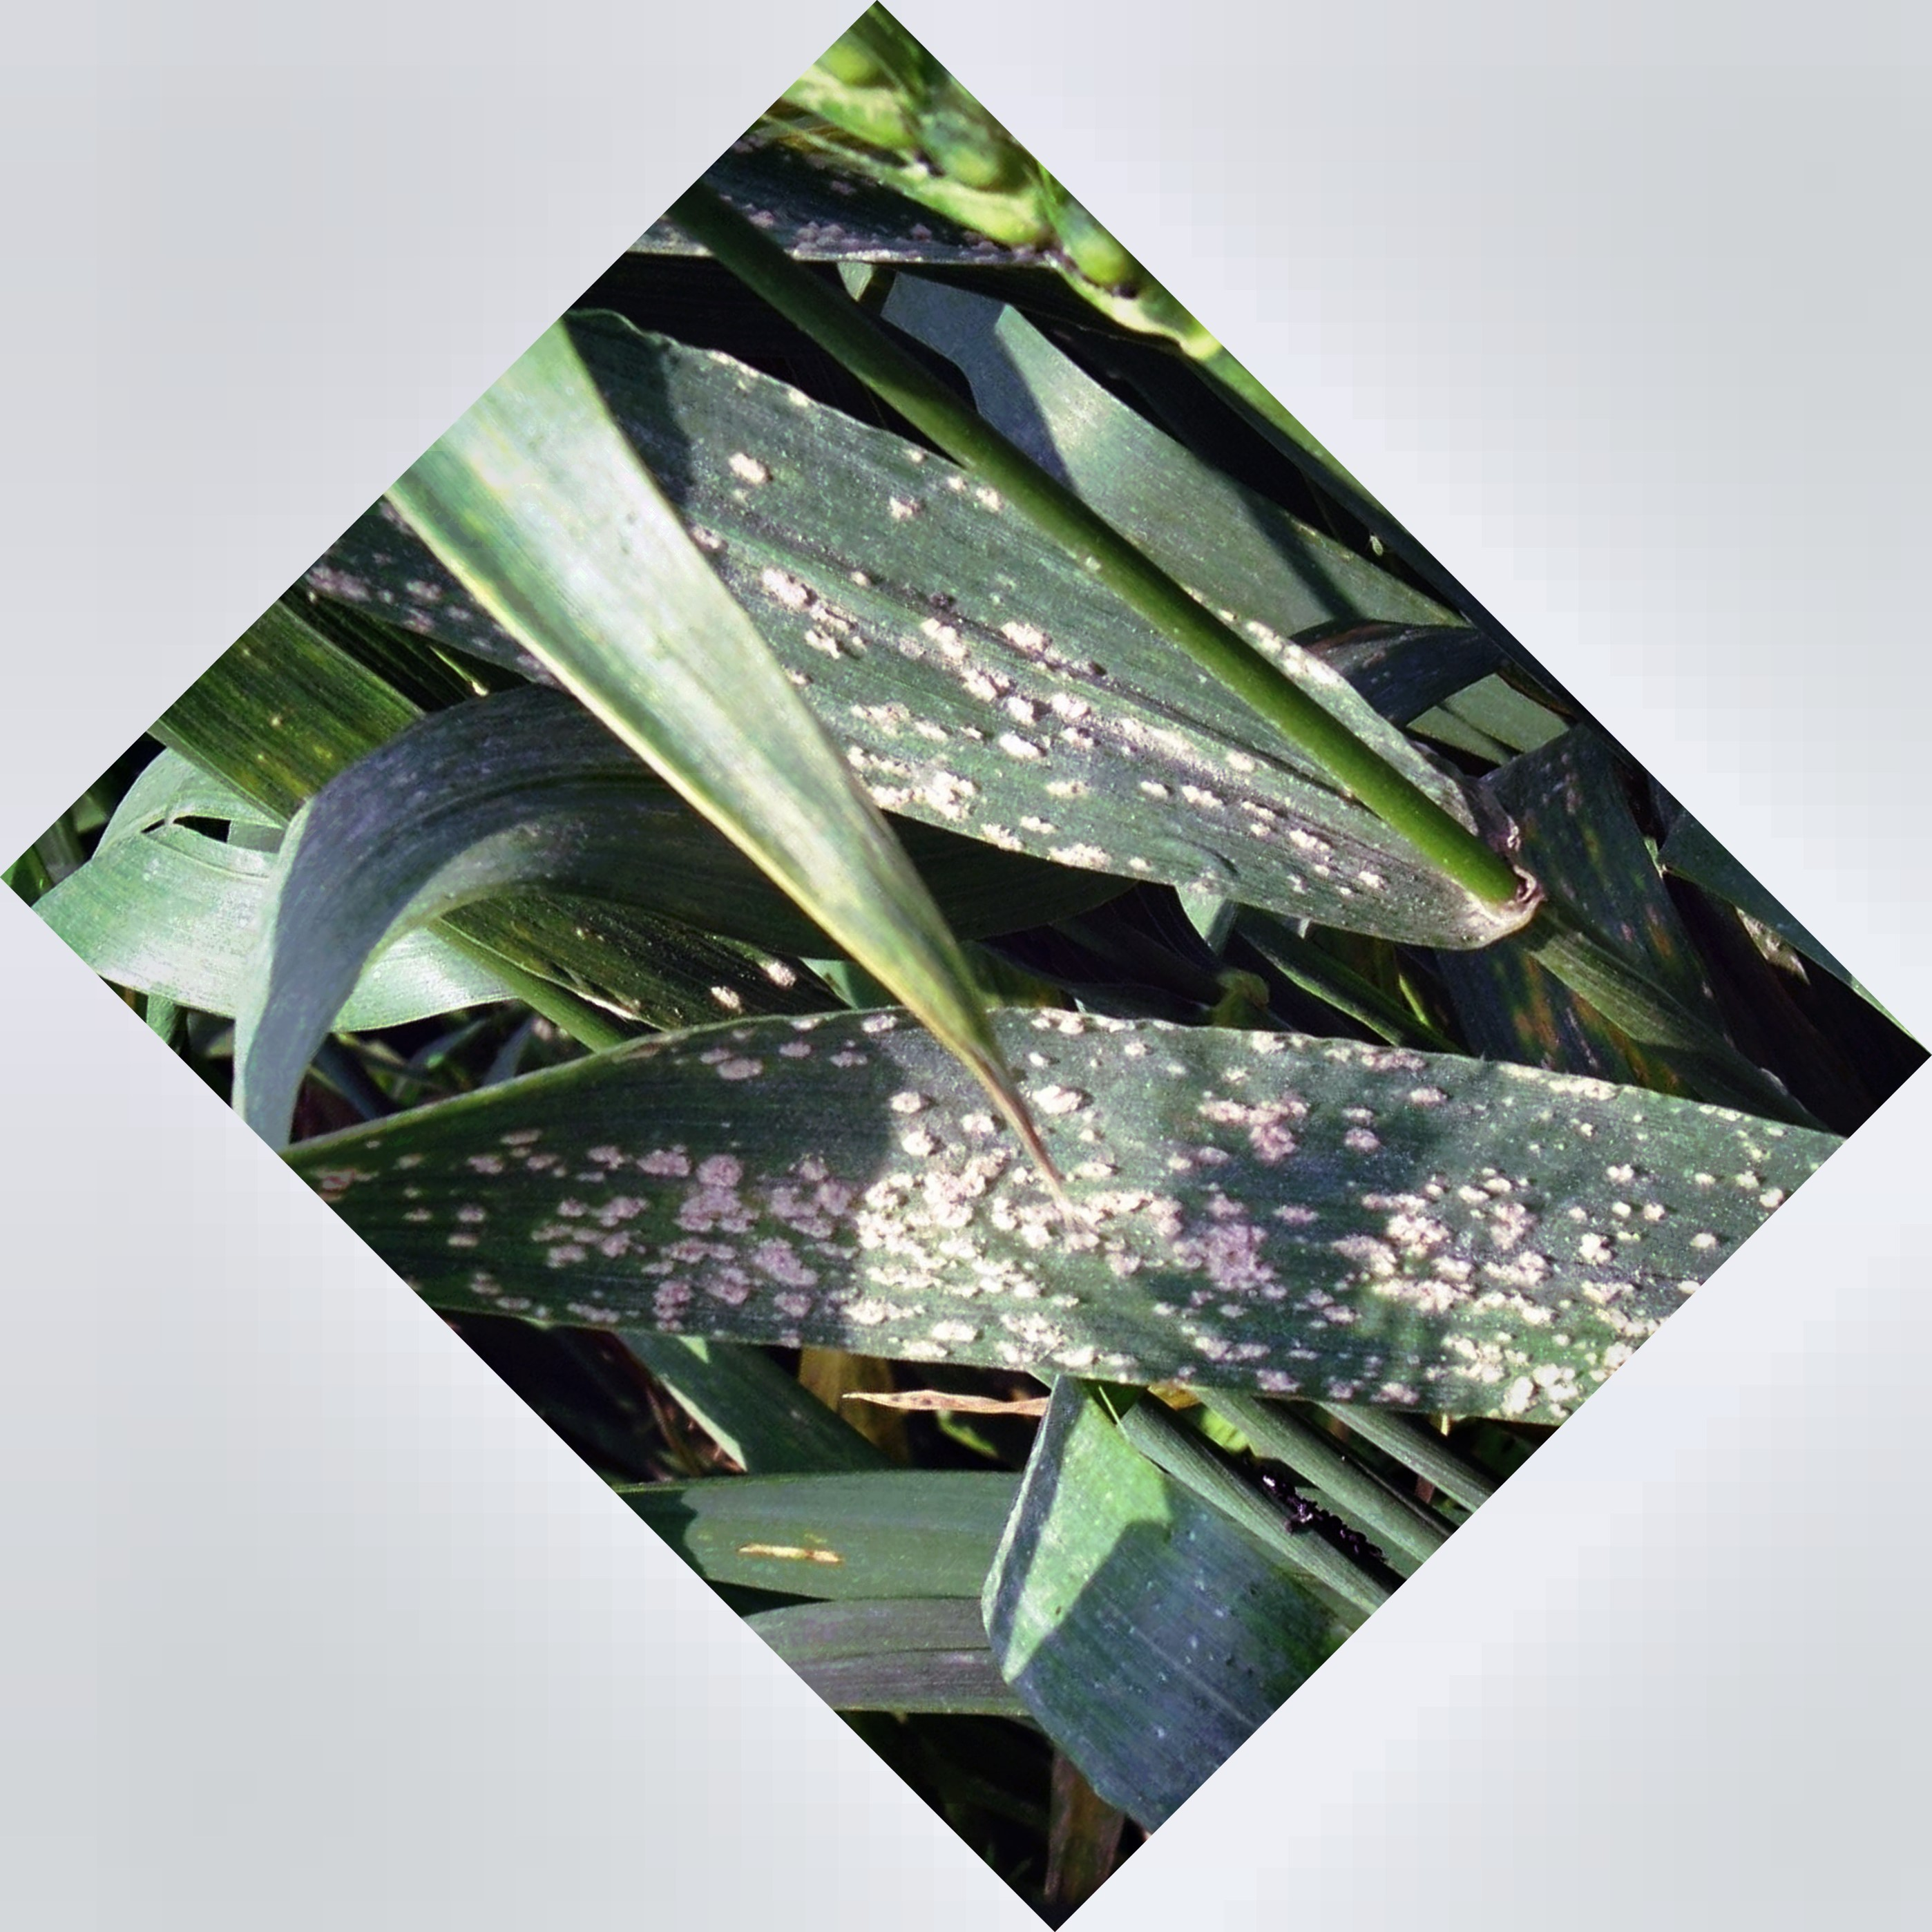Powdery Mildew: (550, 1017, 1695, 1415)
